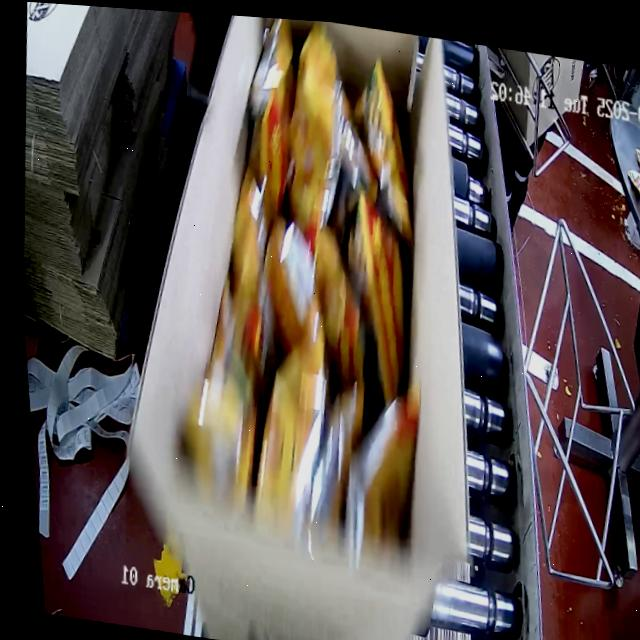FRENCH_CHEESE: (168, 11, 459, 572)
